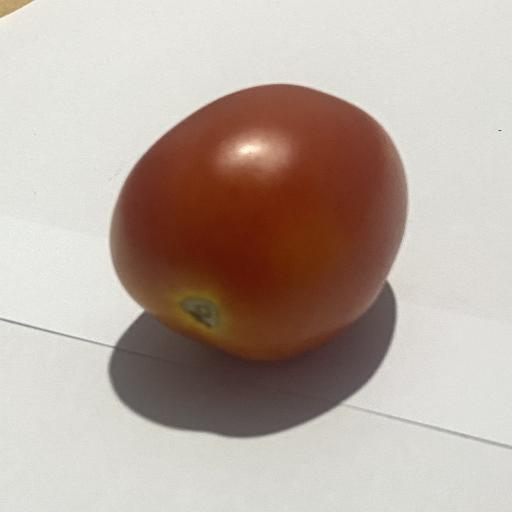ripe: (110, 84, 407, 360)
